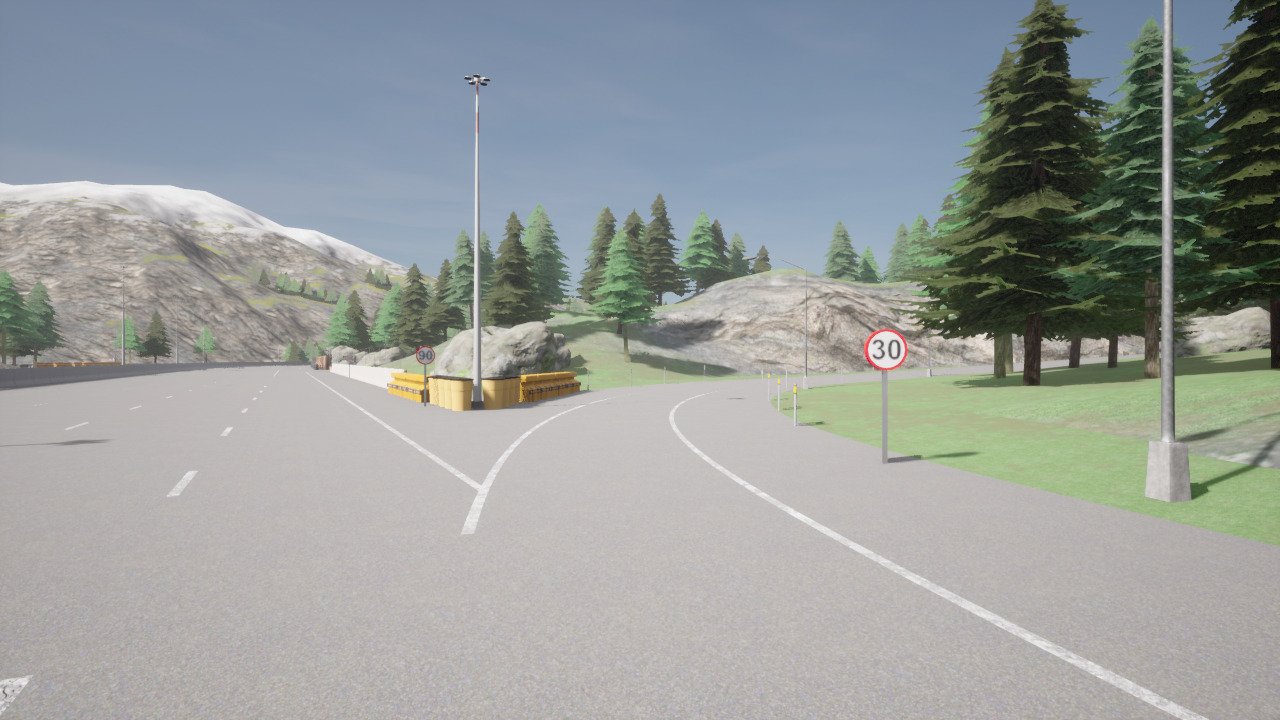sl30: (863, 328, 909, 371)
sl90: (414, 345, 436, 366)
